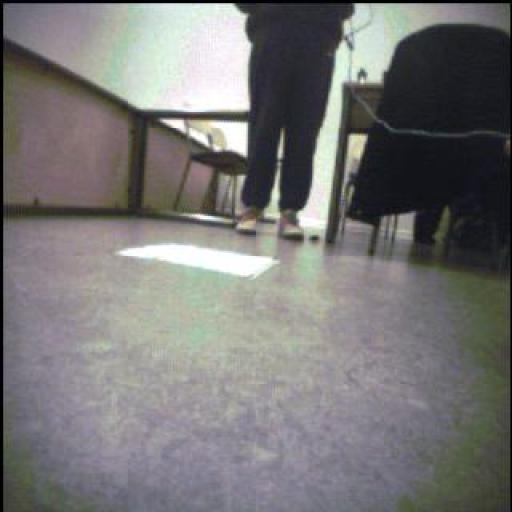Pad: (118, 245, 279, 280)
